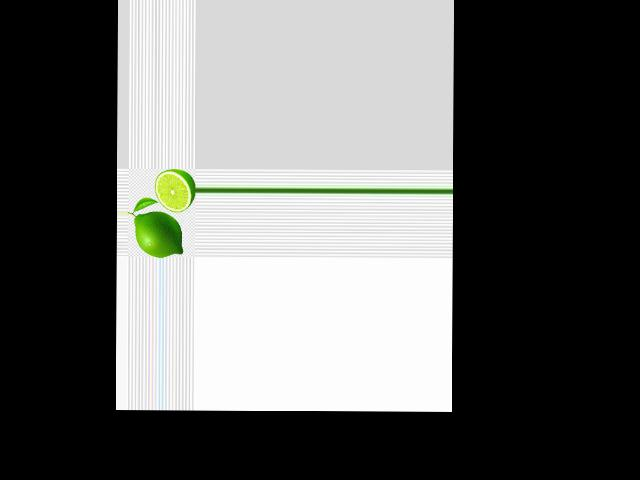lemon: (132, 209, 185, 255)
